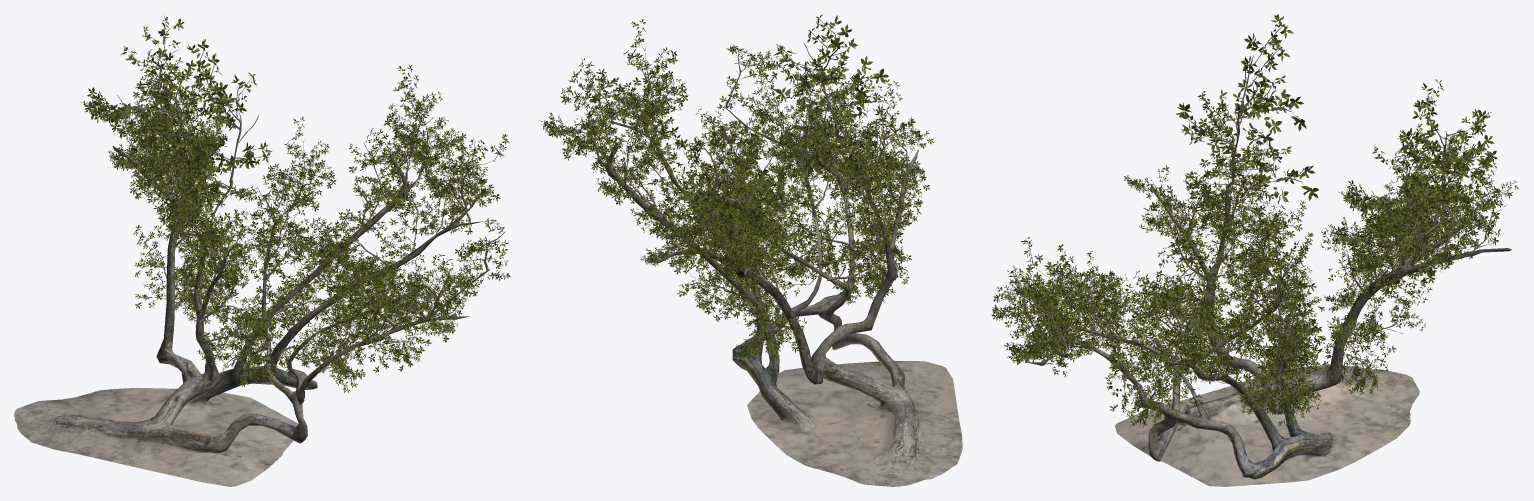
The model's file is island_tree_03.glb.
The picture shows the model from 3 angles, left to right: view 1: azimuth 30°, elevation 25°; view 2: azimuth 150°, elevation 25°; view 3: azimuth 270°, elevation 25°; orthographic projection. The views are drawn at different scales.
Parts seen in each view (by area): view 1: island_tree_03_LOD0; view 2: island_tree_03_LOD0; view 3: island_tree_03_LOD0.
Part boxes in pixels (left/top/right/bottom): island_tree_03_LOD0: left=14, top=14, right=510, bottom=486; island_tree_03_LOD0: left=539, top=14, right=962, bottom=486; island_tree_03_LOD0: left=991, top=14, right=1518, bottom=486.
Size of the model in its own units: 2.97 by 2.61 by 2.91.
3 materials, 3 textured.
